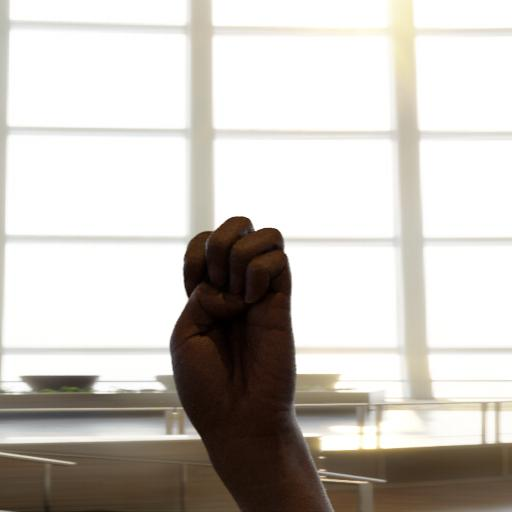E: (138, 198, 340, 438)
